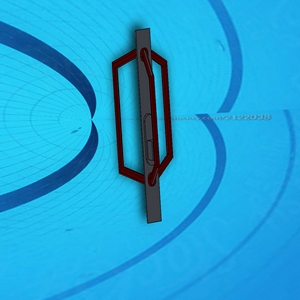submarine: (112, 27, 180, 222)
